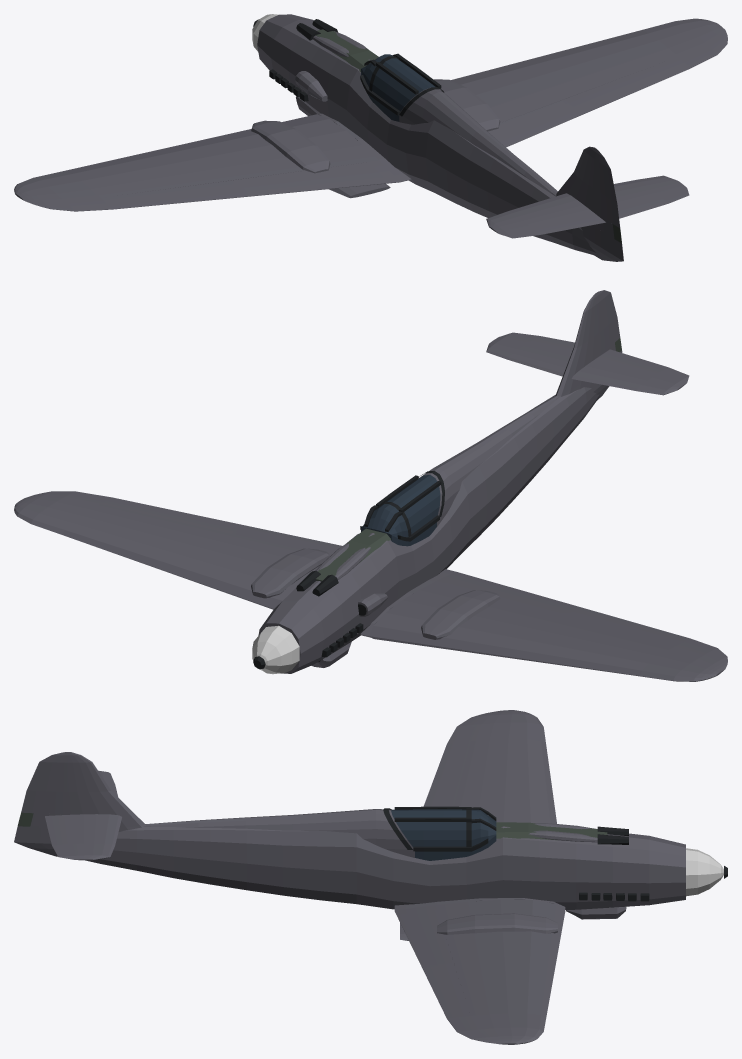
3 renders of one model, top to bottom at view 1: azimuth 30°, elevation 25°; view 2: azimuth 150°, elevation 25°; view 3: azimuth 270°, elevation 25°, orthographic. The views are drawn at different scales.
Parts seen in each view (by area): view 1: Fuselage, Wing L, Wing R, Wheel Bulges, Dorsal Fairing, Flap L, Aileron R, Aileron L, Rudder, Cockpit Glass, Stabilizer L, Flap R (+10 smaller); view 2: Fuselage, Wing L, Wing R, Wheel Bulges, Dorsal Fairing, Cockpit Glass, Stabilizer L, Vertical Fin, Stabilizer R, Spinner, Aileron R, Flap L (+9 smaller); view 3: Fuselage, Wing R, Wing L, Dorsal Fairing, Cockpit Glass, Rudder, Vertical Fin, Aileron L, Wheel Bulges, Flap R, Stabilizer R, Aileron R (+7 smaller).
Boxes of the visible parts, box(x1,y1,x2,y2) form: Fuselage: box(257, 14, 596, 255); Wing L: box(14, 113, 411, 211); Wing R: box(451, 18, 727, 122); Wheel Bulges: box(251, 79, 500, 173); Dorsal Fairing: box(399, 87, 556, 196); Flap L: box(235, 162, 389, 196); Aileron R: box(565, 46, 714, 115); Aileron L: box(68, 180, 247, 211); Rudder: box(593, 149, 623, 261); Cockpit Glass: box(361, 54, 435, 121); Stabilizer L: box(486, 193, 590, 231); Flap R: box(488, 100, 577, 147); Fuselage: box(258, 387, 599, 673); Wing L: box(360, 569, 727, 681); Wing R: box(14, 491, 320, 609); Wheel Bulges: box(251, 548, 500, 639); Dorsal Fairing: box(420, 396, 559, 526); Cockpit Glass: box(361, 475, 440, 546); Stabilizer L: box(571, 357, 683, 395); Vertical Fin: box(555, 292, 600, 396); Stabilizer R: box(486, 338, 571, 376); Spinner: box(252, 625, 299, 674); Aileron R: box(68, 492, 246, 533); Flap L: box(445, 574, 577, 614); Fuselage: box(85, 826, 685, 909); Wing R: box(394, 898, 565, 1044); Wing L: box(447, 710, 556, 823); Dorsal Fairing: box(143, 809, 414, 857); Cockpit Glass: box(391, 809, 496, 860); Rudder: box(14, 752, 66, 856); Vertical Fin: box(66, 752, 144, 831); Aileron L: box(423, 726, 476, 806); Wheel Bulges: box(437, 913, 557, 934); Flap R: box(396, 909, 453, 966); Stabilizer R: box(71, 814, 121, 860); Aileron R: box(422, 964, 476, 1030).
Bounding box in the file's own units: 9.97 × 2.28 × 9.03.
